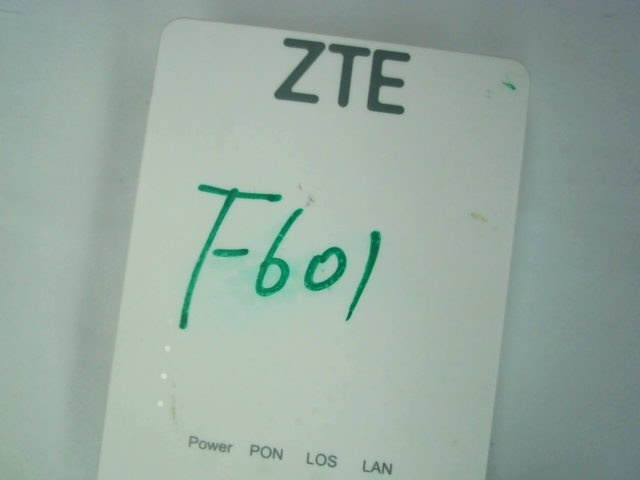AN_ZTE: (263, 25, 410, 119)
